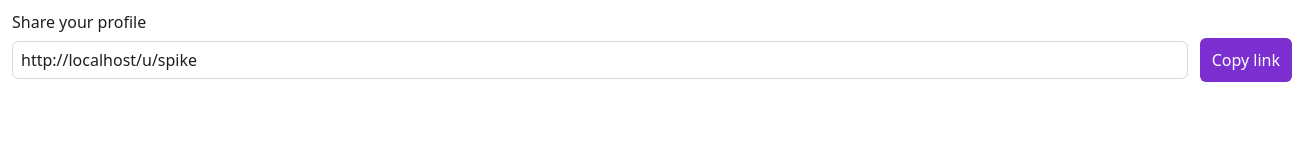
Scenario: ShareProfileLink › falls back to manual copying when the clipboard is blocked
The width and height of the screenshot is (1304, 160).
What coordinates should you click on to do the following:
click the button "Copy link"
I would click on:
 (1246, 60)
Its box is [1200,38,1292,82].
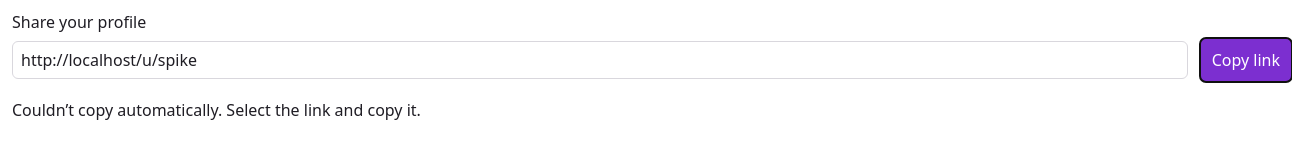
Result: the message shows "Select the link and copy it" at [12,99,421,121]
